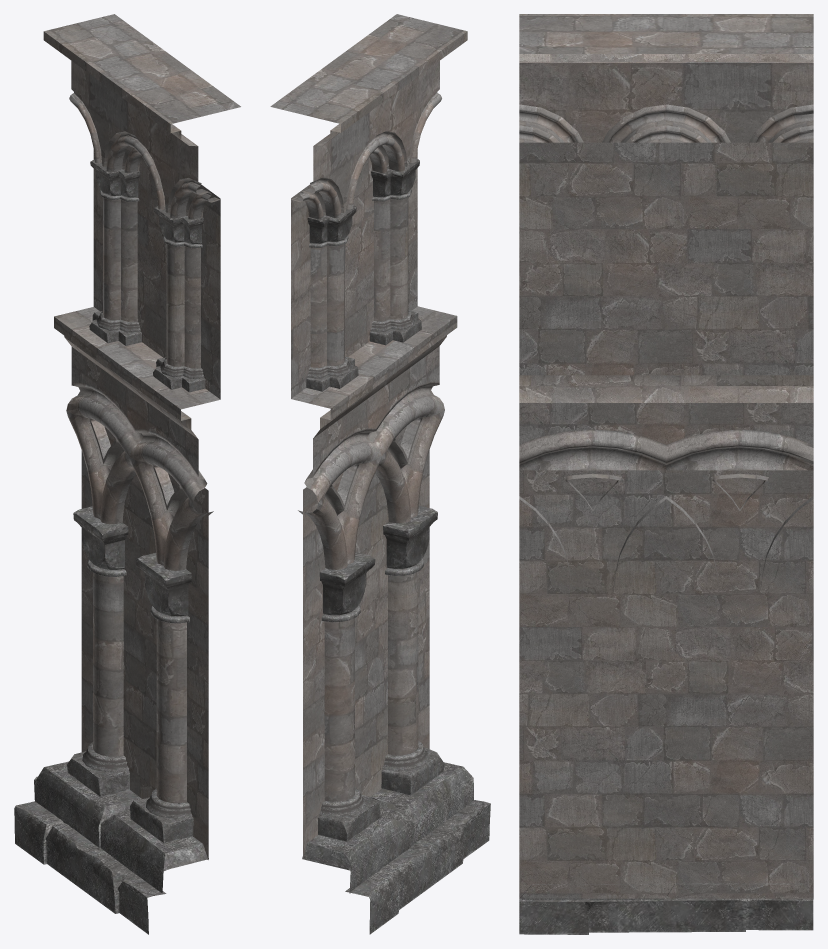
3 renders of one model, left to right at view 1: azimuth 30°, elevation 25°; view 2: azimuth 150°, elevation 25°; view 3: azimuth 270°, elevation 25°, orthographic. The views are drawn at different scales.
Parts seen in each view (by area): view 1: SM_DungeonArcadeWall_Small_LOD0; view 2: SM_DungeonArcadeWall_Small_LOD0; view 3: SM_DungeonArcadeWall_Small_LOD0.
Part boxes in pixels (x1=…): SM_DungeonArcadeWall_Small_LOD0: x1=14, y1=14, x2=240, y2=934; SM_DungeonArcadeWall_Small_LOD0: x1=270, y1=14, x2=490, y2=934; SM_DungeonArcadeWall_Small_LOD0: x1=519, y1=14, x2=813, y2=934.
Bounding box in the file's own units: 0.9141 × 7 × 2.
Materials: 2 (2 with a texture image).
